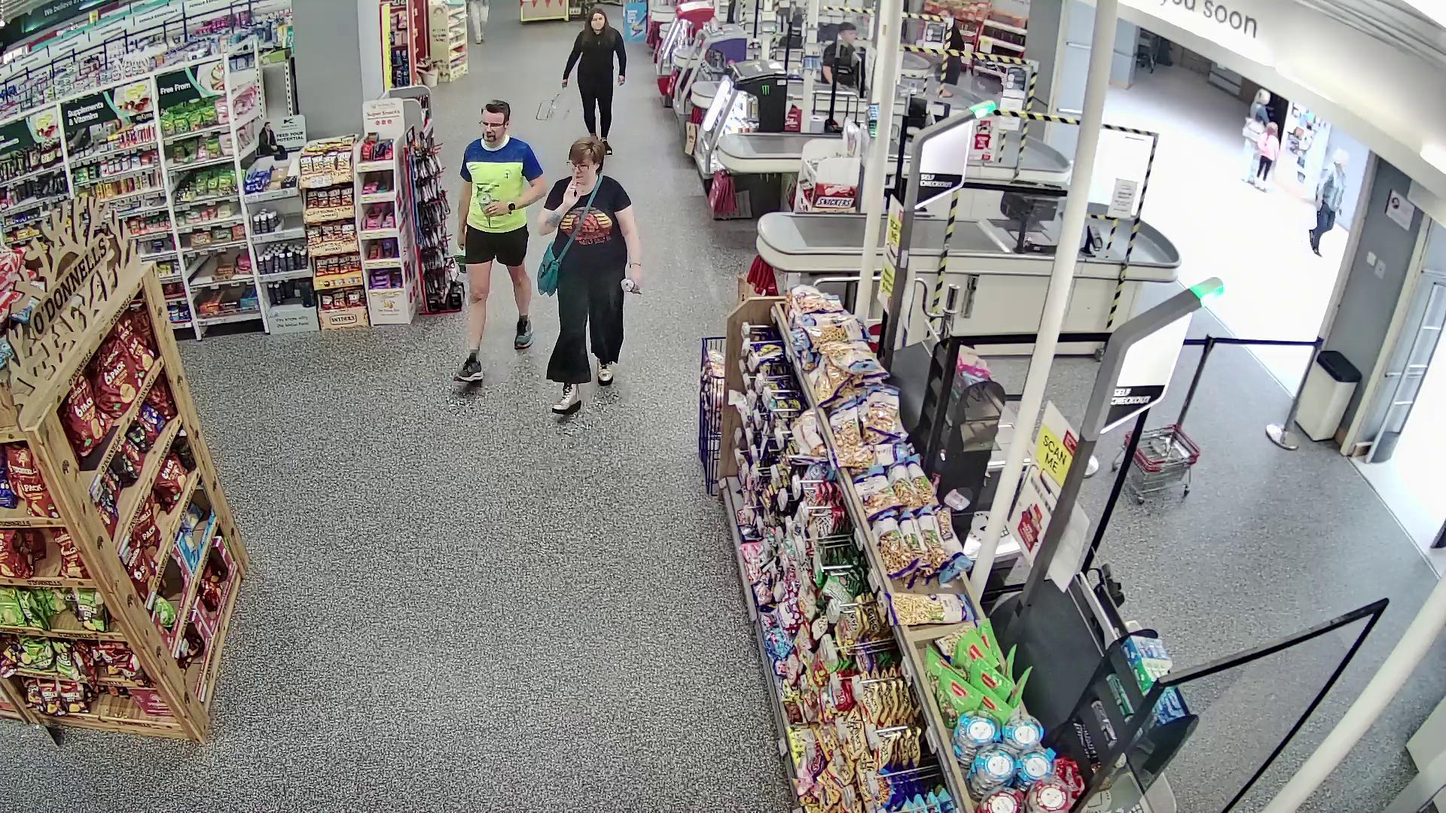backpack-or-handbag: (536, 242, 564, 297)
carrying-item: (477, 195, 495, 229), (620, 277, 642, 296)
person: (537, 138, 641, 413), (453, 98, 547, 384)
person-with-backpack-handbag-and-carrying-item-s-: (534, 137, 641, 413)
person-with-carrying-item: (454, 98, 547, 386)
